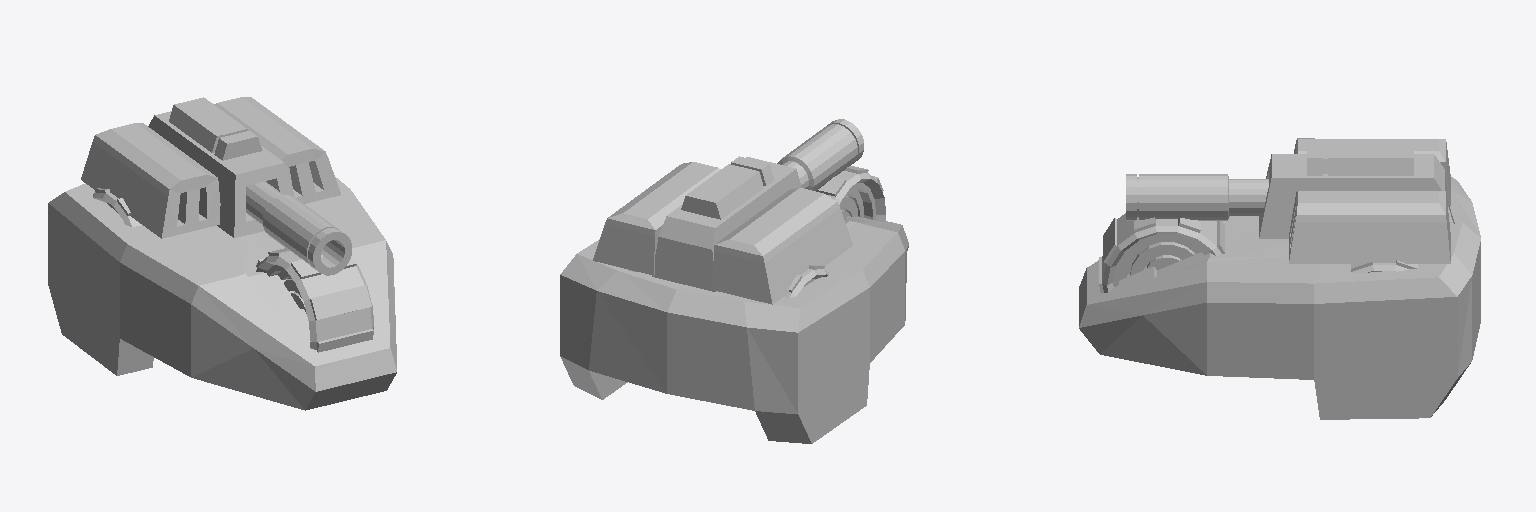
File: PlayerA_Die0.obj
3 views of the same model, side by side, from view 1: azimuth 30°, elevation 25°; view 2: azimuth 150°, elevation 25°; view 3: azimuth 270°, elevation 25° (orthographic).
Visible parts, largest first — view 1: Object001; view 2: Object001; view 3: Object001.
Boxes of the visible parts, x1=… form: Object001: x1=48, y1=97, x2=396, y2=410; Object001: x1=560, y1=119, x2=908, y2=443; Object001: x1=1079, y1=138, x2=1480, y2=419.
Size of the model in its own units: 81.21 by 68.98 by 119.